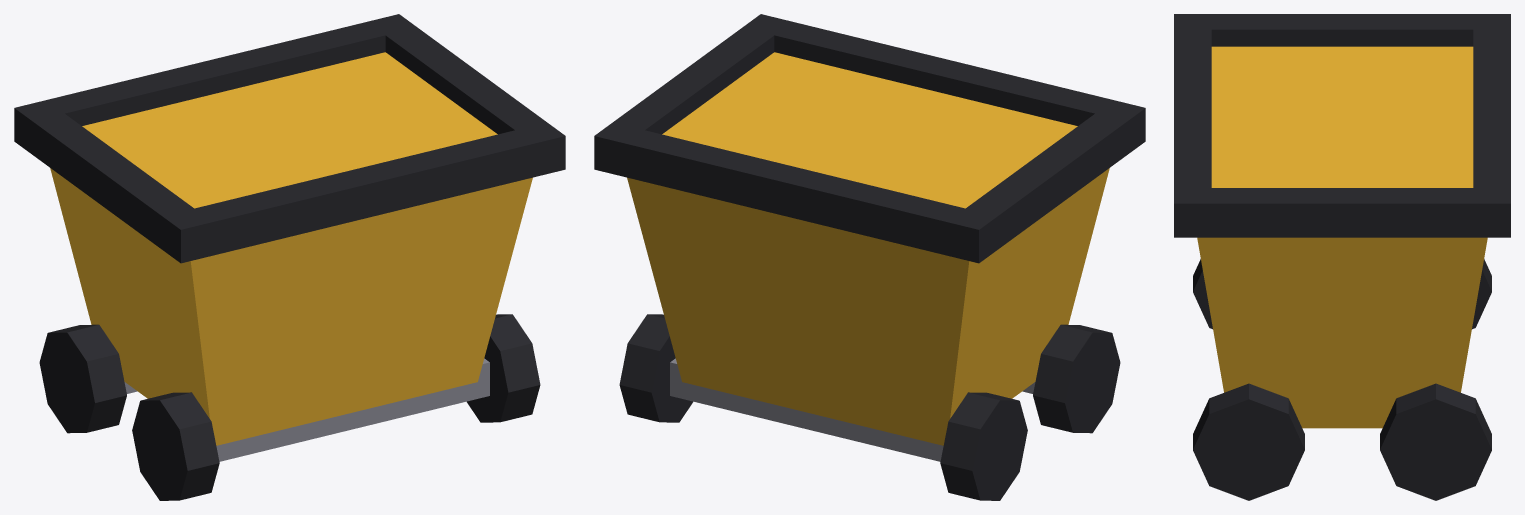
Rendered from mine_cart.glb.
The picture shows the model from 3 angles, left to right: view 1: azimuth 30°, elevation 25°; view 2: azimuth 150°, elevation 25°; view 3: azimuth 270°, elevation 25°; orthographic projection.
Parts seen in each view (by area): view 1: mine_cart; view 2: mine_cart; view 3: mine_cart.
Boxes of the visible parts, x1,y1,x2,y2 form: mine_cart: (14,14,565,500); mine_cart: (594,14,1145,500); mine_cart: (1174,14,1510,500).
Size of the model in its own units: 0.24 by 0.18 by 0.18.
